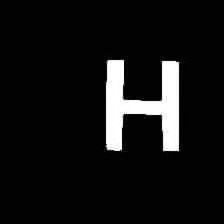LTR_H: (95, 49, 189, 161)
